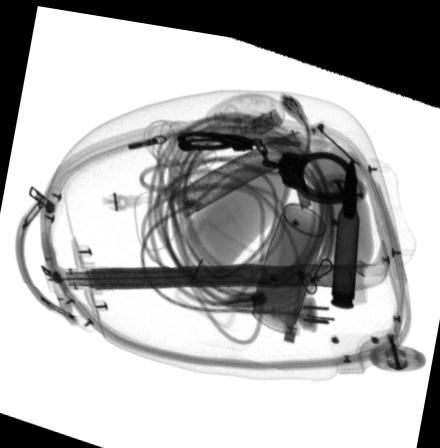Bullet: (330, 144, 358, 295)
HandCuffs: (174, 120, 357, 195)
